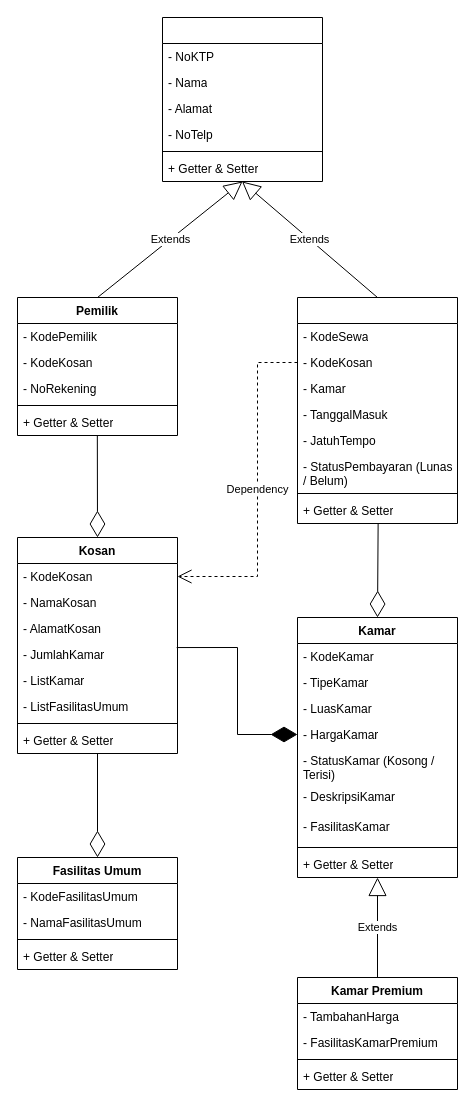
Image size: 475x1110. Some labels were removed from this diagram. Each missing label, with the box of its shape:
Orang: (162, 16, 322, 182)
Penyewa: (296, 296, 458, 524)
